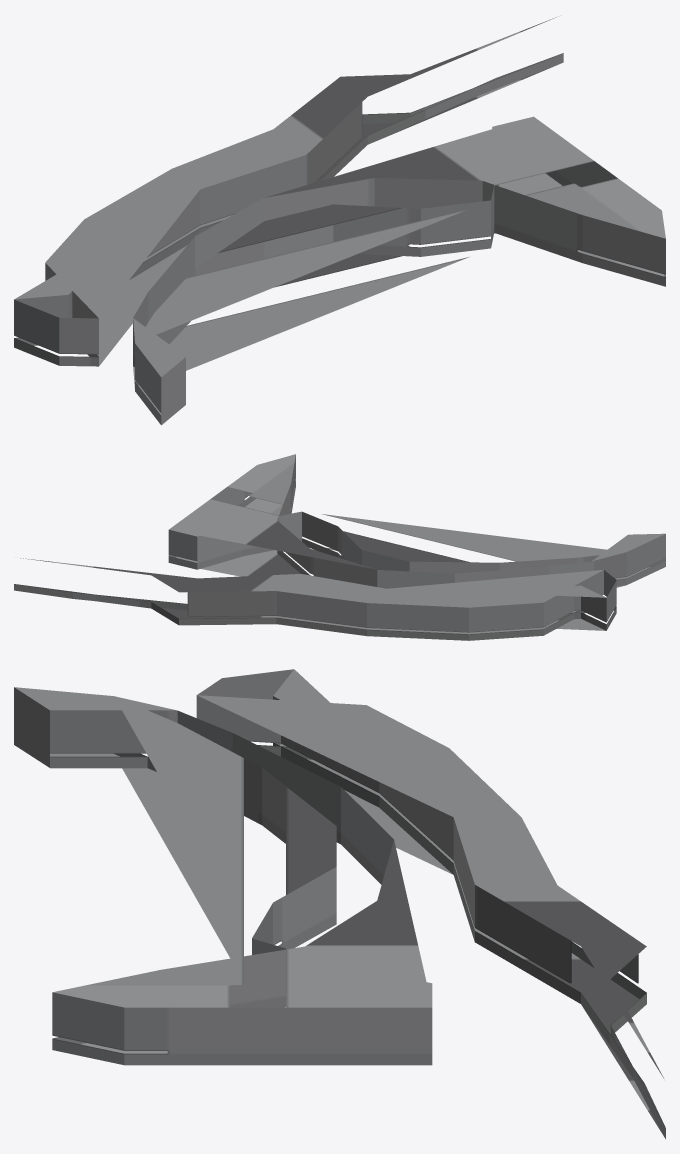
The picture shows the model from 3 angles, top to bottom: view 1: azimuth 30°, elevation 25°; view 2: azimuth 150°, elevation 25°; view 3: azimuth 270°, elevation 25°; orthographic projection. The views are drawn at different scales.
Bounding box in the file's own units: 0.4232 × 0.0276 × 0.2824.
